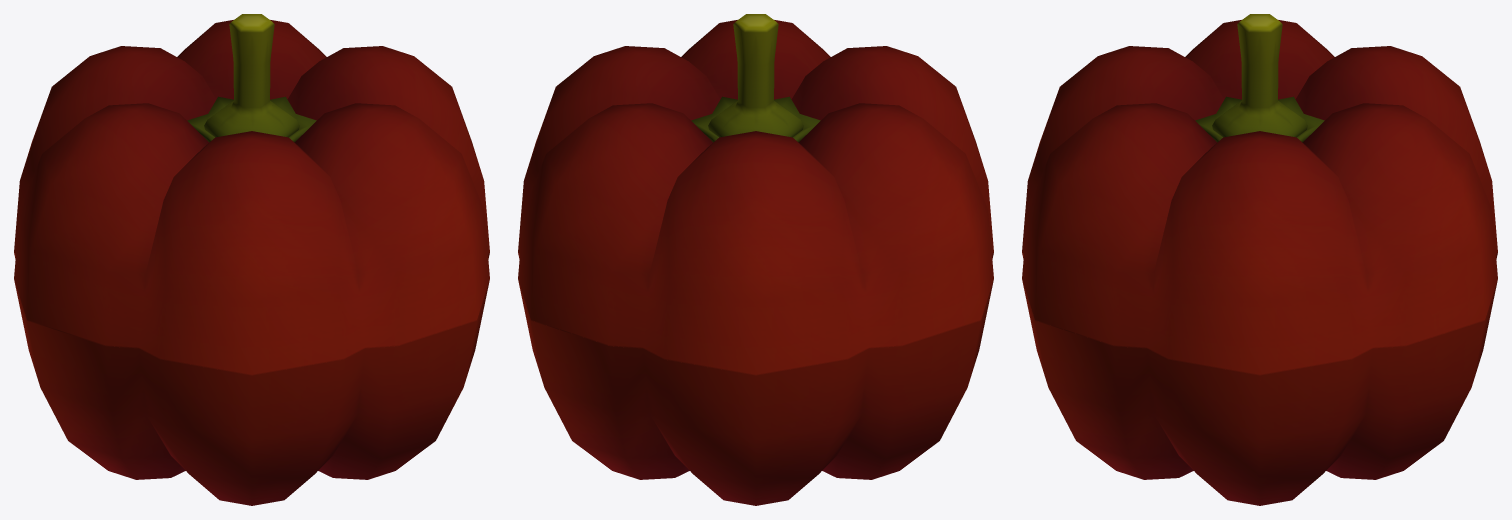
The model's file is Pepper Red.fbx.
3 renders of one model, left to right at view 1: azimuth 30°, elevation 25°; view 2: azimuth 150°, elevation 25°; view 3: azimuth 270°, elevation 25°, orthographic.
Parts seen in each view (by area): view 1: Pepper_R_Whole, Pepper_R_Half_Top, Pepper_R_Half_Botton; view 2: Pepper_R_Whole, Pepper_R_Half_Top, Pepper_R_Half_Botton; view 3: Pepper_R_Whole, Pepper_R_Half_Top, Pepper_R_Half_Botton.
Boxes of the visible parts, x1=… form: Pepper_R_Whole: x1=14, y1=14, x2=489, y2=505; Pepper_R_Half_Top: x1=14, y1=181, x2=489, y2=374; Pepper_R_Half_Botton: x1=14, y1=253, x2=489, y2=439; Pepper_R_Whole: x1=518, y1=14, x2=993, y2=505; Pepper_R_Half_Top: x1=518, y1=181, x2=993, y2=374; Pepper_R_Half_Botton: x1=518, y1=253, x2=993, y2=439; Pepper_R_Whole: x1=1022, y1=14, x2=1497, y2=505; Pepper_R_Half_Top: x1=1022, y1=181, x2=1497, y2=374; Pepper_R_Half_Botton: x1=1022, y1=253, x2=1497, y2=439.
Size of the model in its own units: 2.3 by 2.08 by 2.11.
